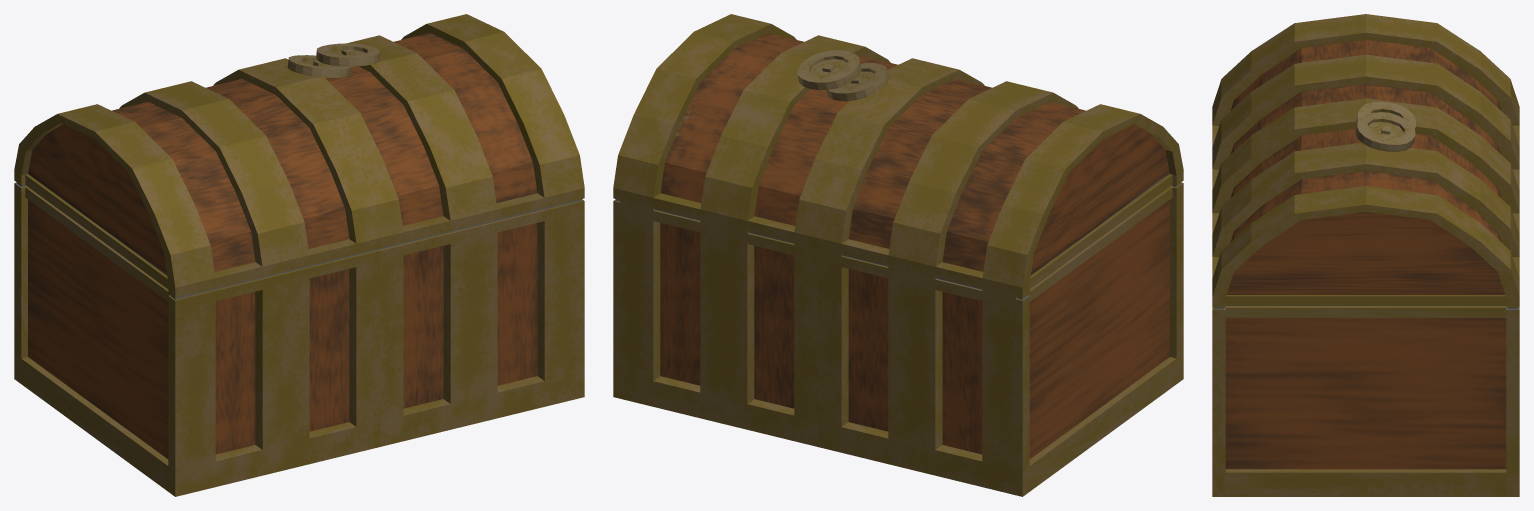
File: Chest.fbx
The picture shows the model from 3 angles, left to right: view 1: azimuth 30°, elevation 25°; view 2: azimuth 150°, elevation 25°; view 3: azimuth 270°, elevation 25°; orthographic projection. The views are drawn at different scales.
Visible parts, largest first — view 1: Cube; view 2: Cube; view 3: Cube.
Boxes of the visible parts, x1,y1,x2,y2 form: Cube: (14, 14, 584, 496); Cube: (613, 14, 1183, 496); Cube: (1212, 14, 1519, 496).
Size of the model in its own units: 434 by 325 by 296.
